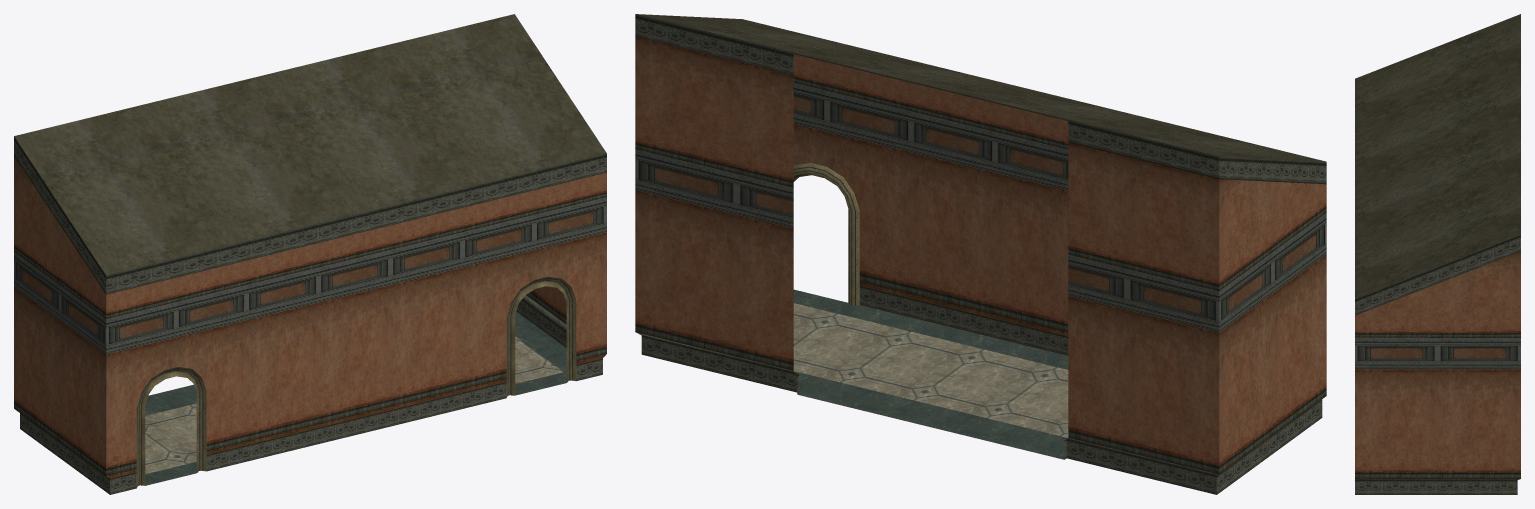
The model's file is mun_tato_hotel_s01_r3_mesh_foyer3.fbx.
3 views of the same model, side by side, from view 1: azimuth 30°, elevation 25°; view 2: azimuth 150°, elevation 25°; view 3: azimuth 270°, elevation 25° (orthographic). The views are drawn at different scales.
Parts seen in each view (by area): view 1: mesh_node; view 2: mesh_node; view 3: mesh_node.
Part boxes in pixels (x1,y1,x2,y2): mesh_node: [14, 14, 606, 494]; mesh_node: [635, 14, 1326, 494]; mesh_node: [1355, 14, 1520, 494].
Size of the model in its own units: 15.95 by 8.9 by 5.08.
